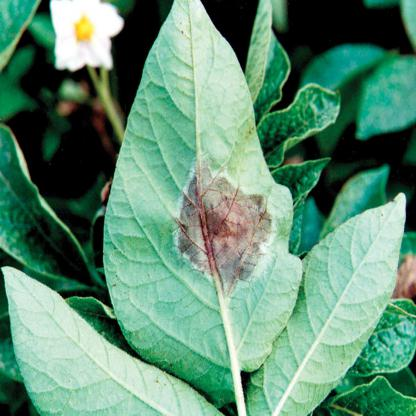potato leaf late blight: (98, 1, 300, 403)
